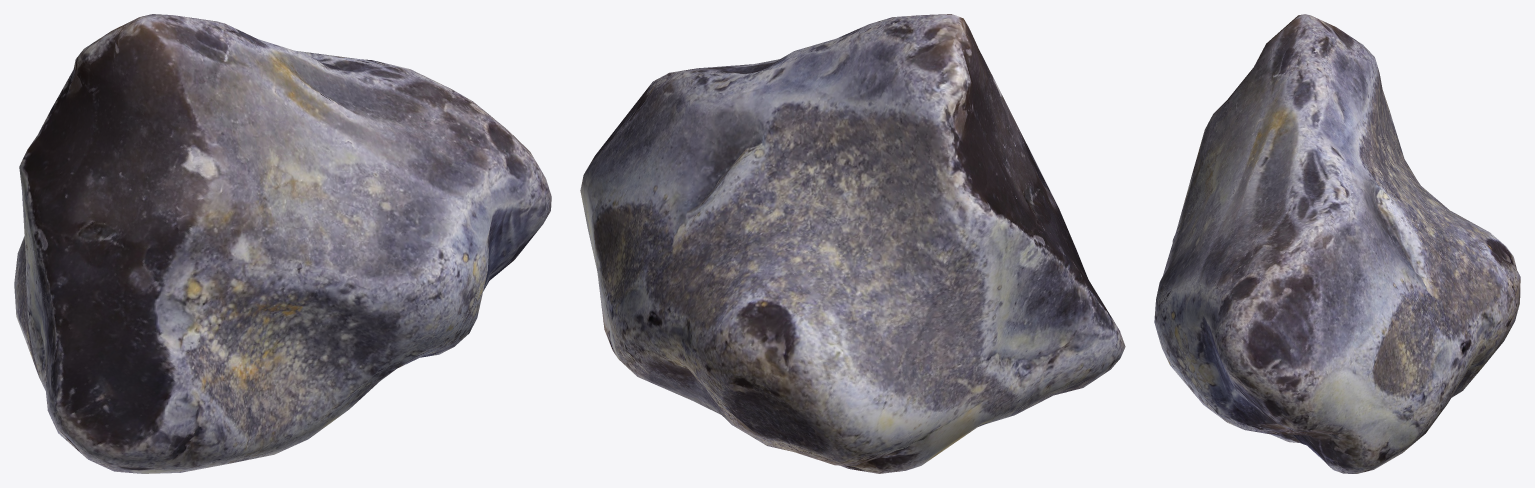
3 renders of one model, left to right at view 1: azimuth 30°, elevation 25°; view 2: azimuth 150°, elevation 25°; view 3: azimuth 270°, elevation 25°, orthographic. The views are drawn at different scales.
Visible parts, largest first — view 1: tmp.o.001; view 2: tmp.o.001; view 3: tmp.o.001.
Part boxes in pixels (<box>): tmp.o.001: <box>14,14,551,473</box>; tmp.o.001: <box>580,14,1125,473</box>; tmp.o.001: <box>1154,14,1520,473</box>.
Size of the model in its own units: 90.78 by 74.19 by 67.29.
Materials: 1 (1 with a texture image).
